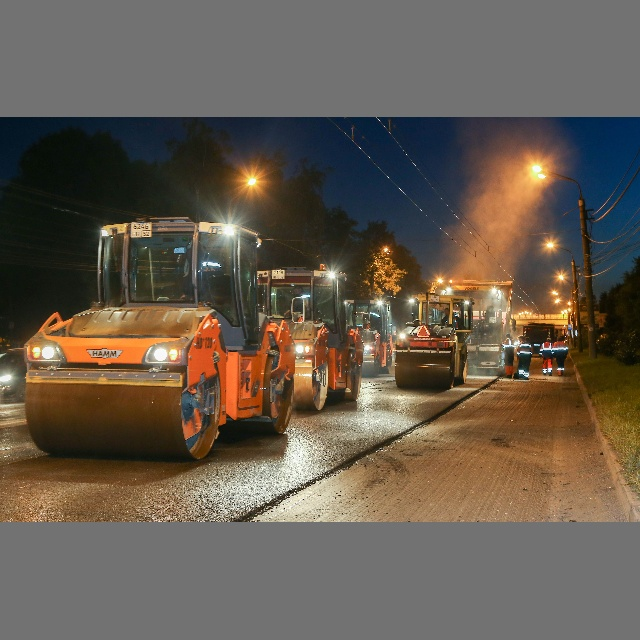Рабочая техника: (24, 224, 293, 460), (394, 294, 467, 388)
